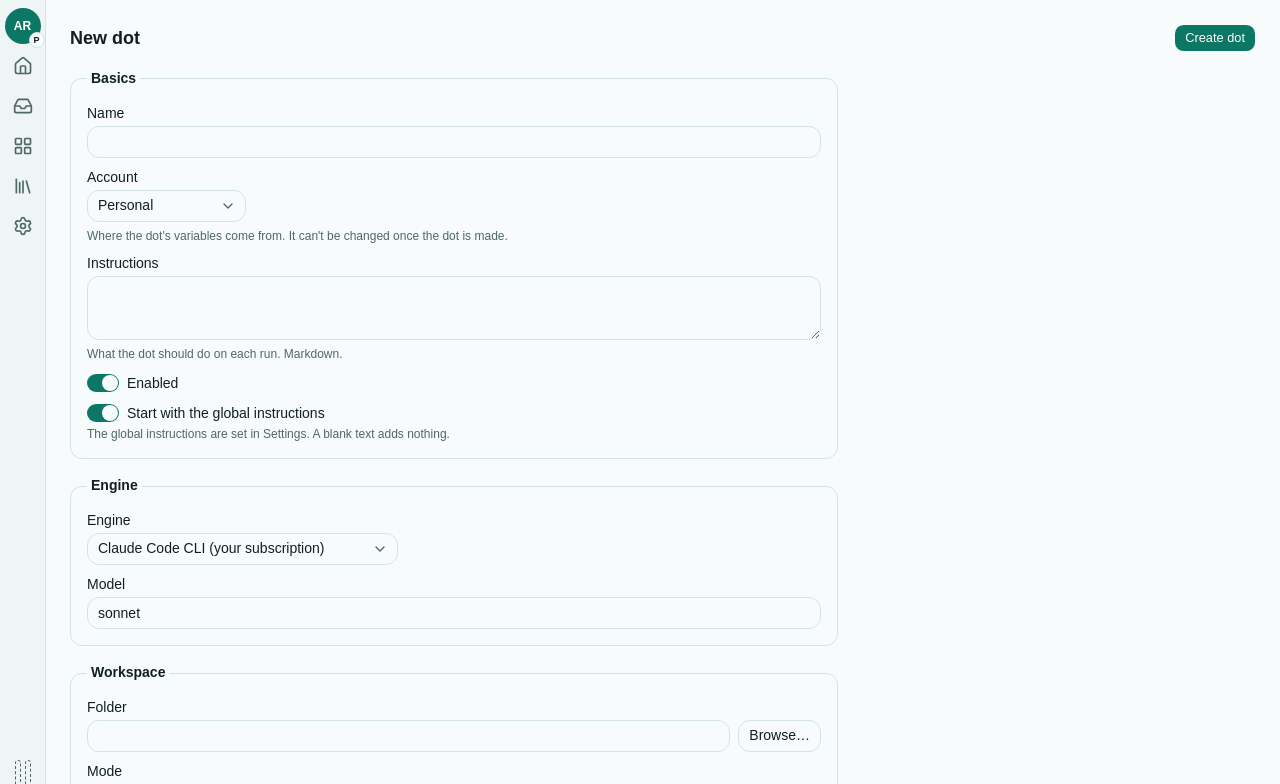
Test: a Viewer in the editor › can't create a dot in the account chosen, but can in Personal
The width and height of the screenshot is (1280, 784).
In the field labelled "Name": {"x": 454, "y": 142} [87,126,821,158], type "nightly"
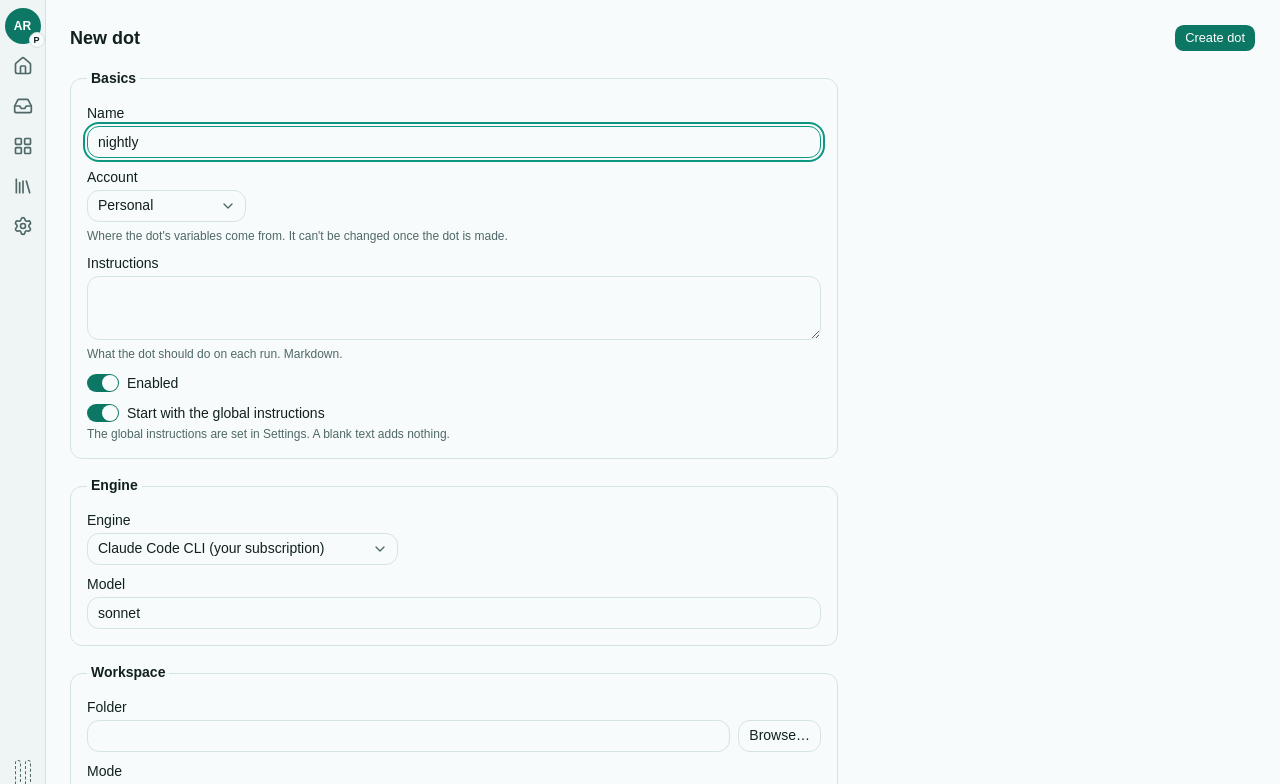
In the text box labelled "Instructions": {"x": 454, "y": 308} [87,276,821,340], type "Run the tests."
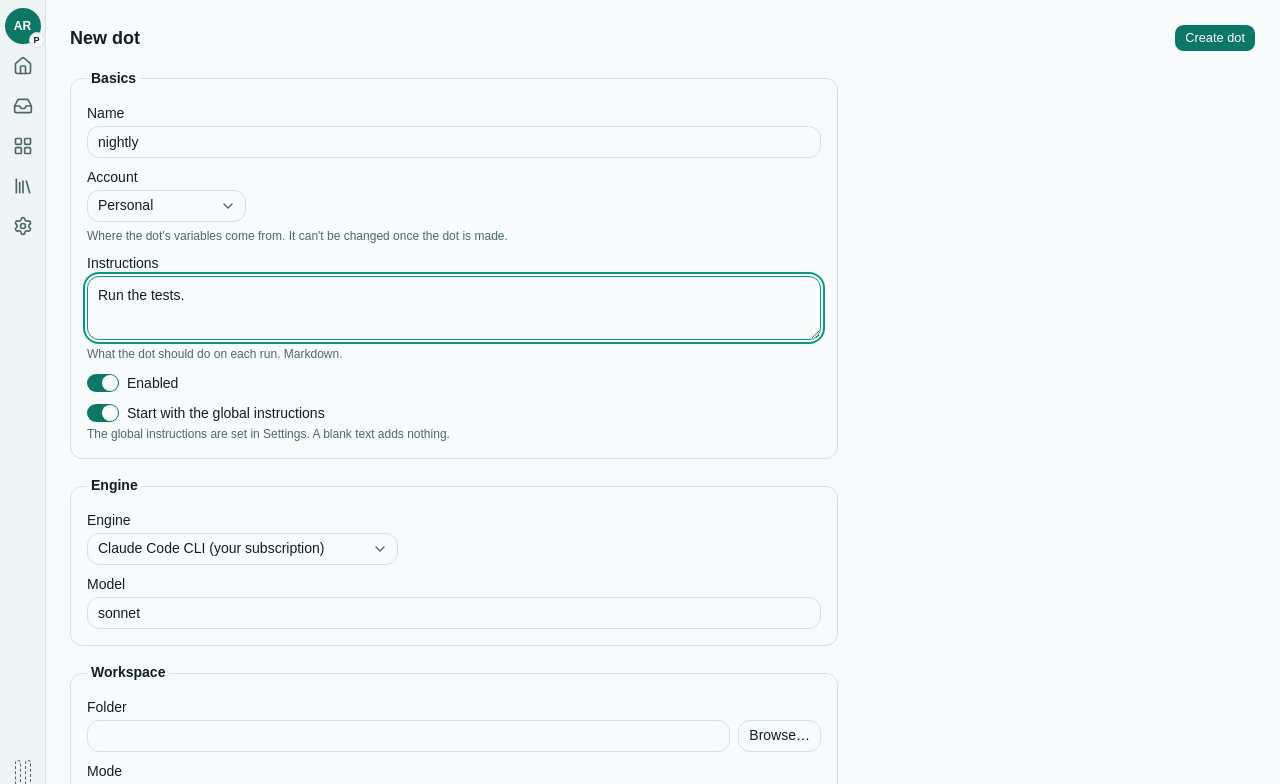
In the field labelled "Folder": {"x": 409, "y": 736} [87,720,730,752], type "C:/dev/app"
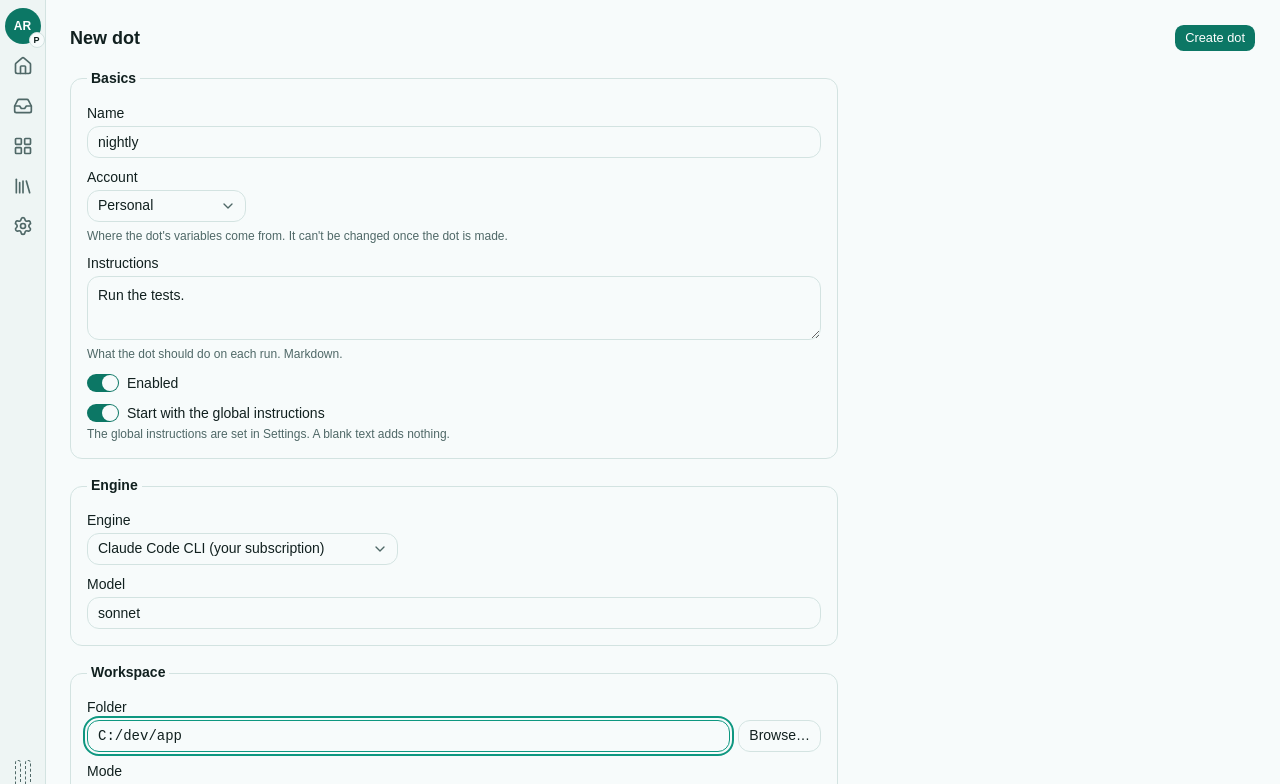
Select "Acme Engineering" in the dropdown labelled "Account": {"x": 166, "y": 206} [87,190,246,222]
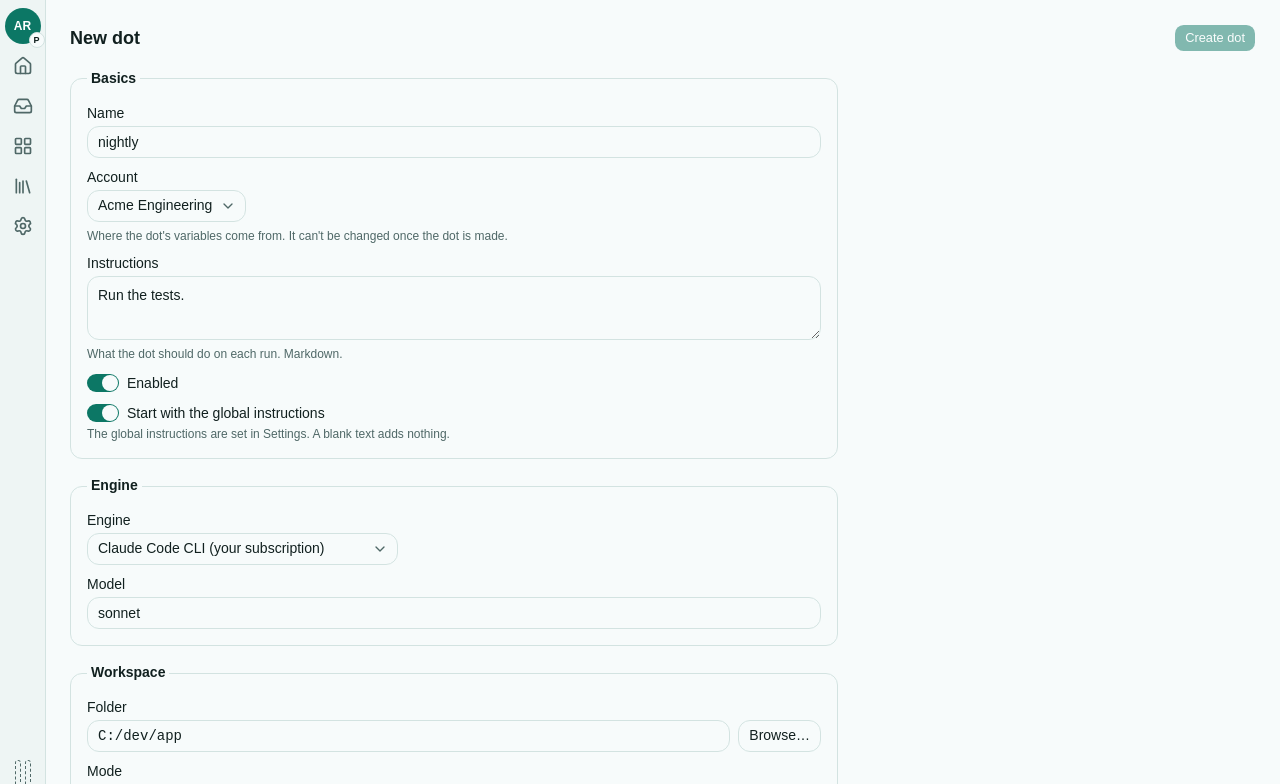
Result: the button "Create dot" is disabled at [1174,24,1256,52]
Select "Personal" in the dropdown labelled "Account": {"x": 166, "y": 206} [87,190,246,222]
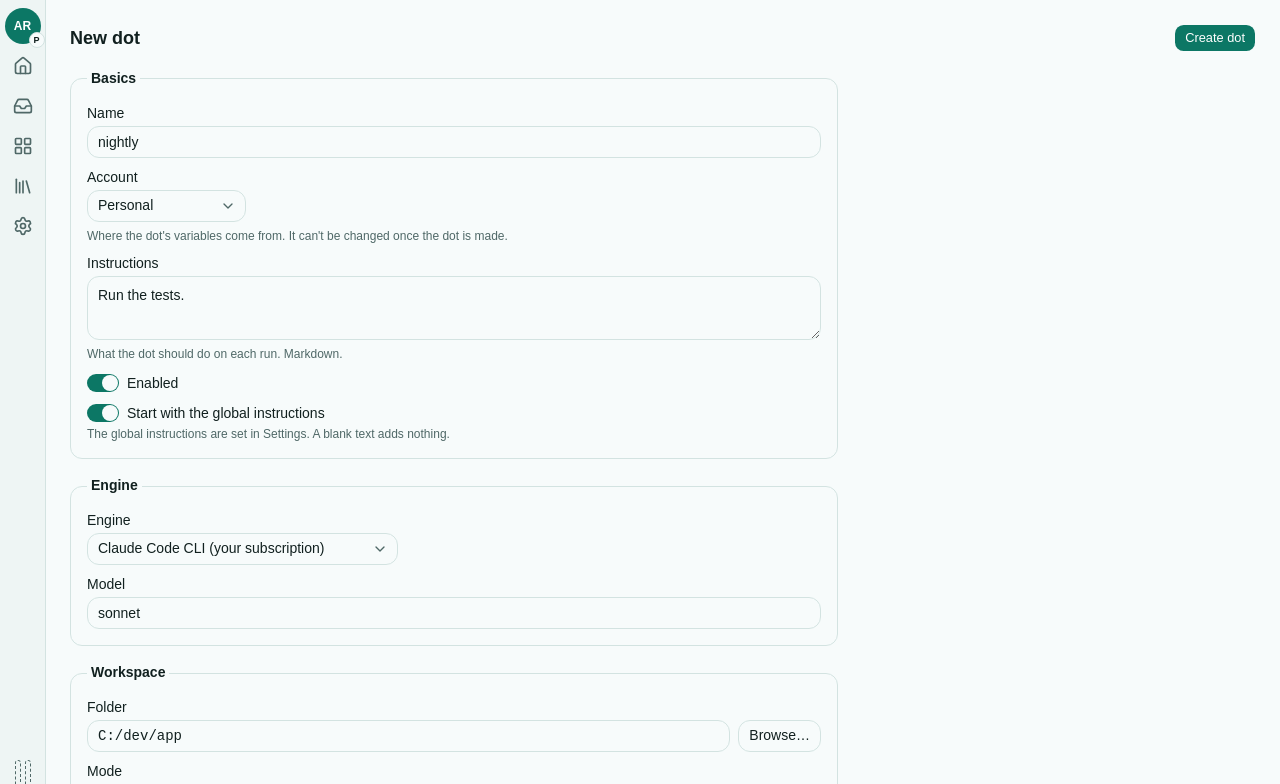
Result: the button "Create dot" is enabled at [1174,24,1256,52]
